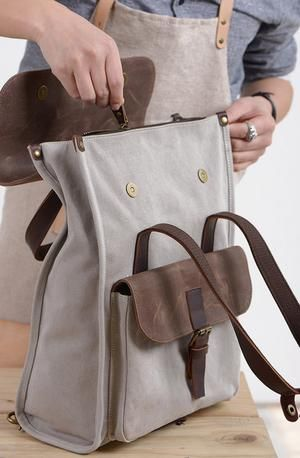cuero: (6, 56, 300, 423)
